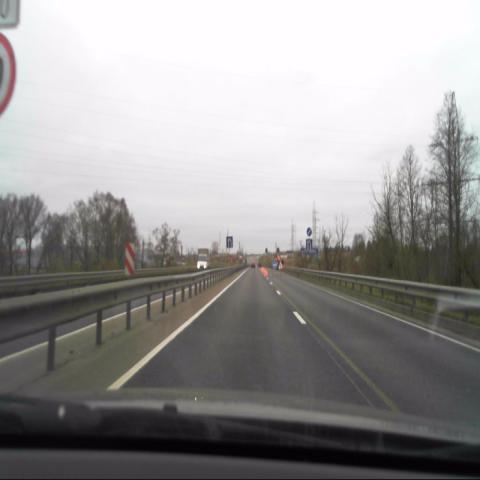4_2_2: (306, 226, 312, 237)
5_15_5: (225, 235, 233, 247), (306, 238, 313, 250)
